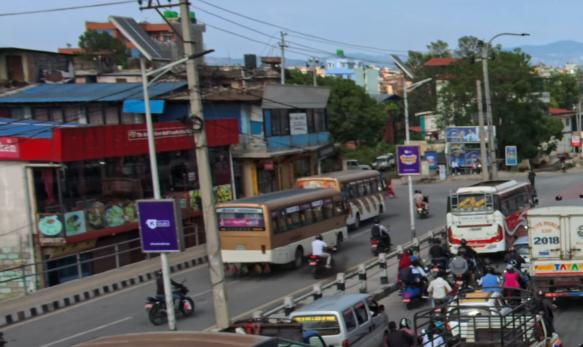bus: (215, 170, 351, 277), (445, 177, 539, 258), (298, 171, 390, 228)
van: (289, 290, 390, 347)
